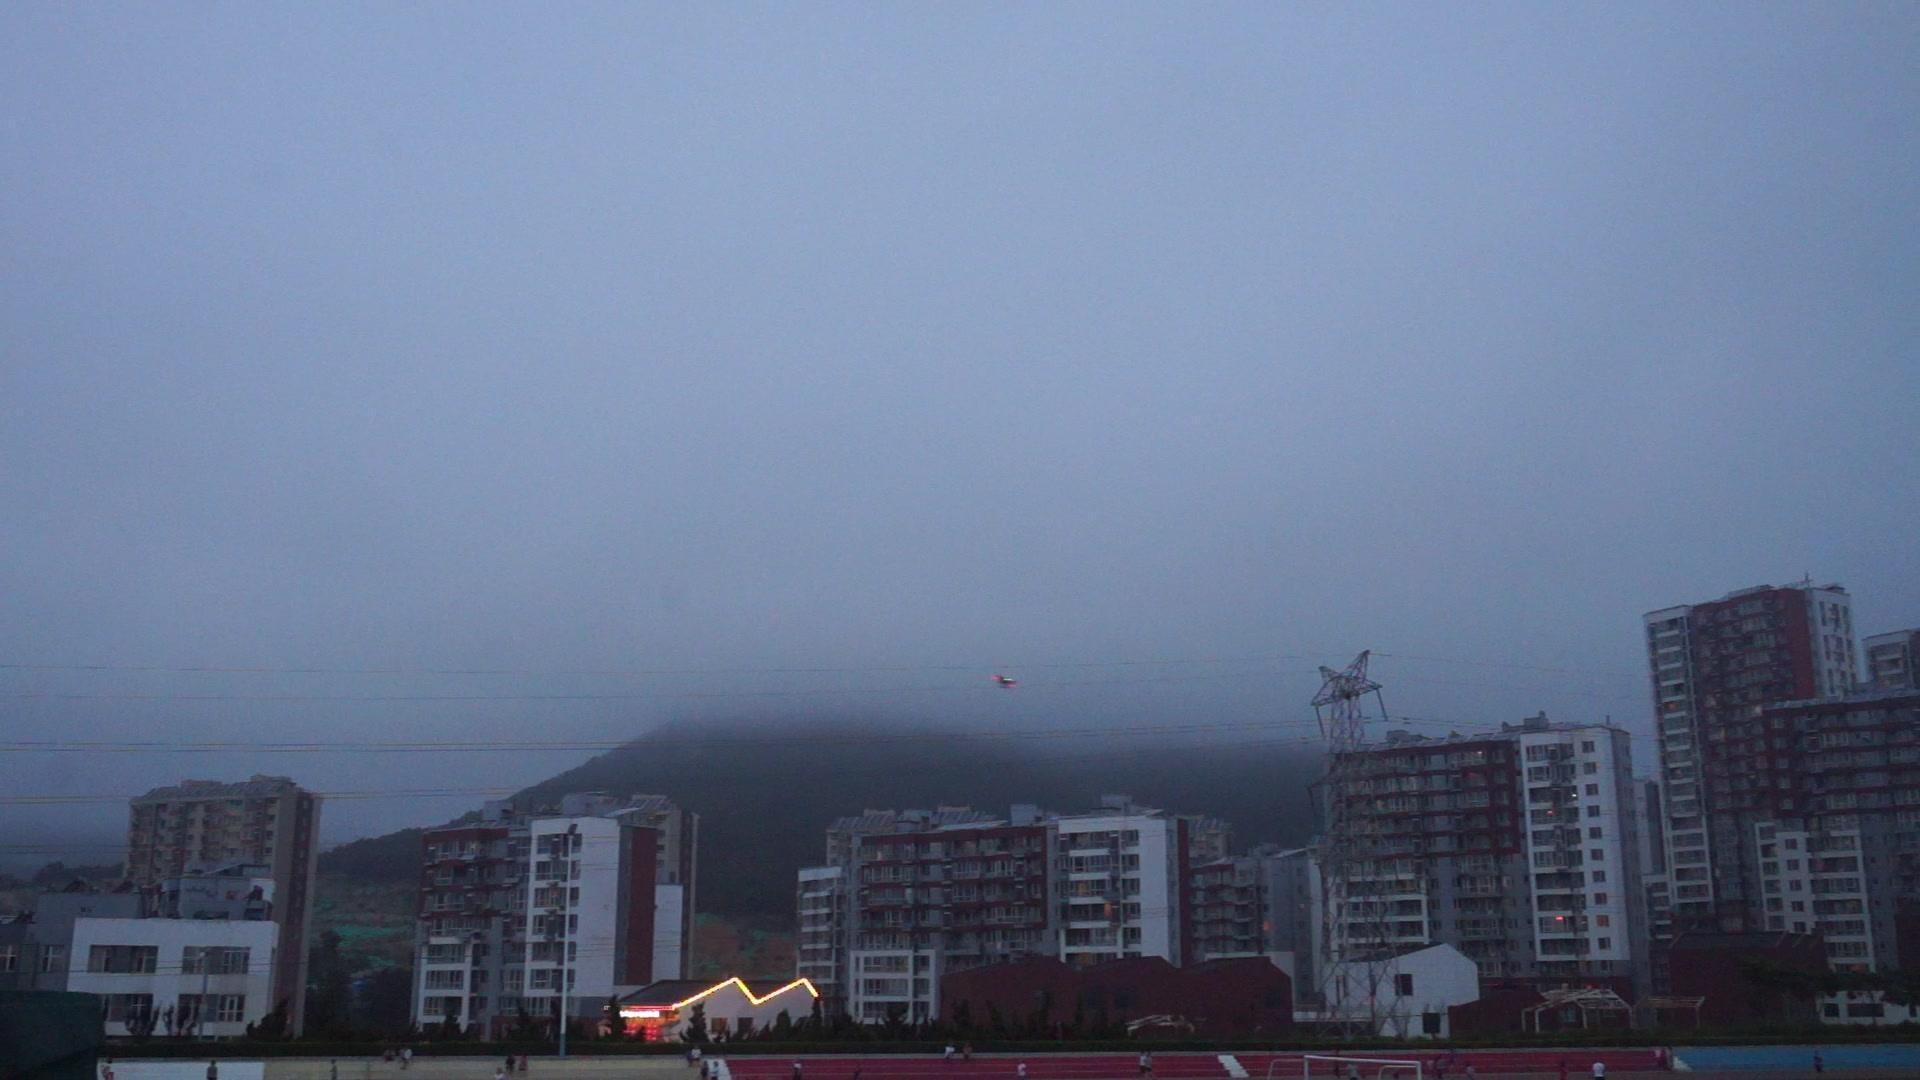UAV: (989, 673, 1021, 690)
